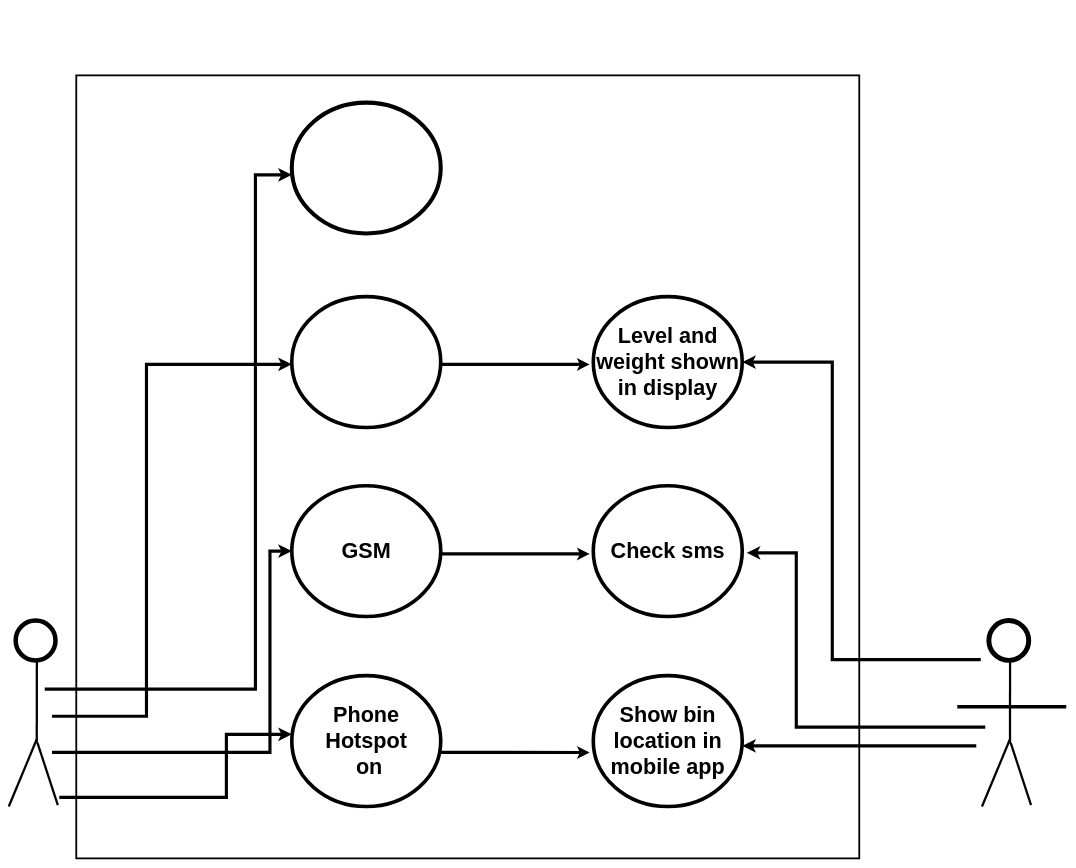
The diagram is 1076 pixels wide and 868 high, and some of its shapes have lost their labels. The centre of each missing label's shape, as x and y in pixels:
"Adapter power supply" goes at point 366,167.
"Inser waste into bin" goes at point 366,362.
